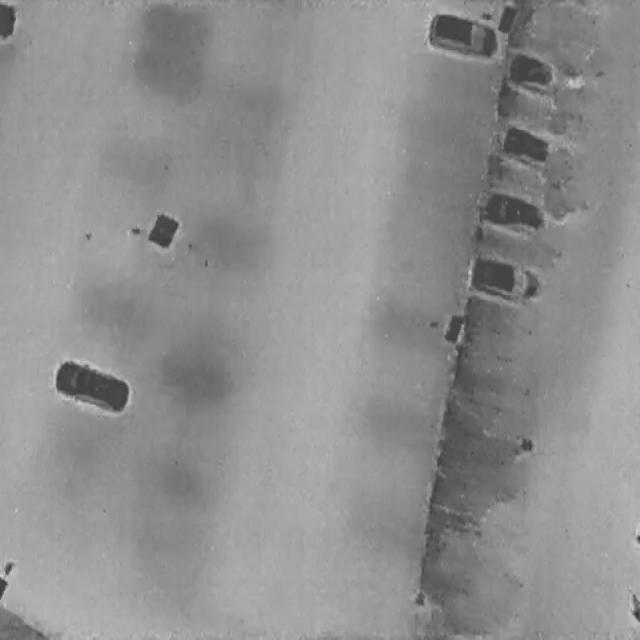Car: (50, 351, 133, 414), (426, 10, 499, 59), (467, 254, 541, 301), (498, 120, 561, 169), (506, 50, 564, 94), (483, 190, 545, 231)
